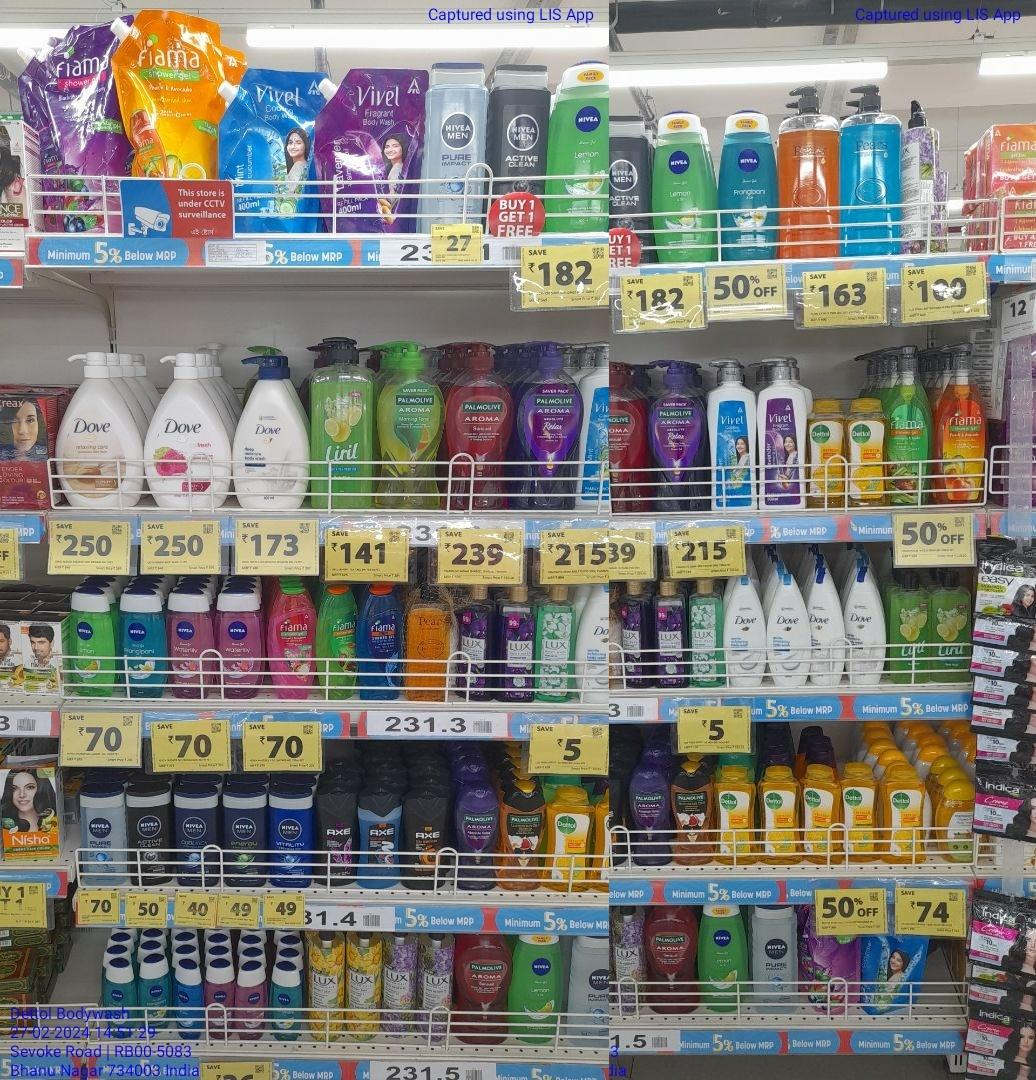Dettol_Bodywash_Refresh: (847, 398, 889, 509), (550, 786, 592, 897), (883, 766, 928, 867), (716, 767, 758, 868), (760, 764, 801, 867), (809, 400, 843, 508), (843, 762, 879, 864), (804, 764, 838, 860)
Dove_Deep_Moisture_Body_Wash_250ML: (844, 571, 884, 683), (813, 569, 846, 688)
Dove_Gentle_Exfoliating_Body_Wash_250ML: (766, 576, 808, 686), (578, 581, 612, 704), (727, 578, 764, 686)
Fiama_Shower_Gel_Lemongrass_and_Jojoba_250ML: (320, 587, 357, 701)
Fiama_Shower_Gel_Patchouli_and_Macadamia_250ML: (268, 585, 313, 700)
Liril_Lime_and_Tea_Tree_Oil_Body_Wash_250ML: (932, 568, 972, 684), (889, 572, 929, 684)
Lux_Black_Orchid_Scent_and_Juniper_Oil_Body_Wash_245ML: (455, 580, 494, 700), (501, 585, 536, 704), (651, 579, 686, 690), (621, 581, 649, 690)
Lux_Body_Wash_Skin_Detox_Freesia_Scent_and_Alove_Vera_245ML: (539, 585, 575, 705), (690, 579, 723, 688)
Nivea_Shower_Gel_Frangipani_and_Oil_250ML: (717, 108, 782, 263), (118, 588, 163, 704), (102, 963, 136, 1039), (271, 964, 302, 1042), (140, 958, 171, 1031)
Nivea_Shower_Gel_Lemon_and_Oil_250ML: (547, 57, 610, 237), (652, 108, 714, 264), (702, 904, 751, 1016), (515, 936, 564, 1047), (69, 586, 110, 699)
Nivea_Shower_Gel_Waterlily_and_Oil_250ML: (216, 587, 264, 698), (166, 588, 211, 701), (205, 965, 235, 1041), (237, 963, 265, 1041)
Palmolive_Aroma_Relax_250ML: (459, 789, 499, 895), (631, 770, 669, 869)
Palmolive_Luminous_Oils_With_White_Orchid_Shower_Gel_250ML: (504, 785, 546, 893), (674, 764, 714, 867)
